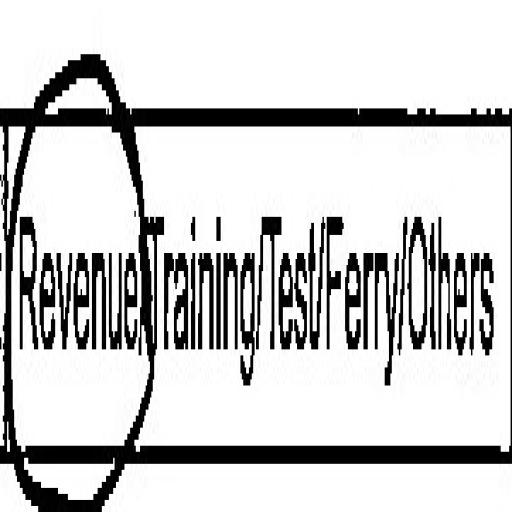check: (1, 0, 142, 512)
